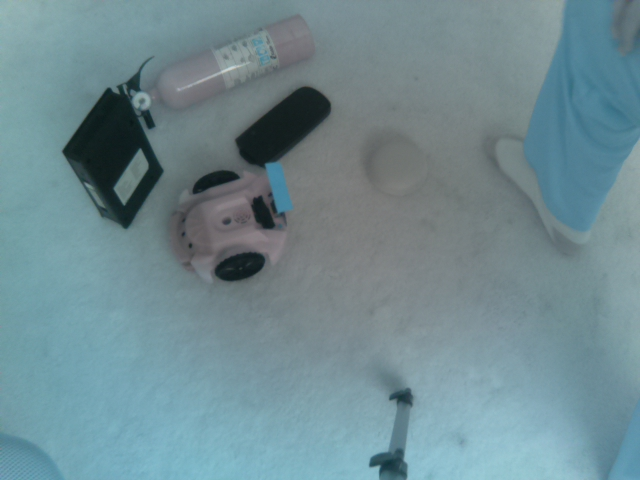board: (261, 155, 295, 219)
chassis: (162, 156, 294, 284)
